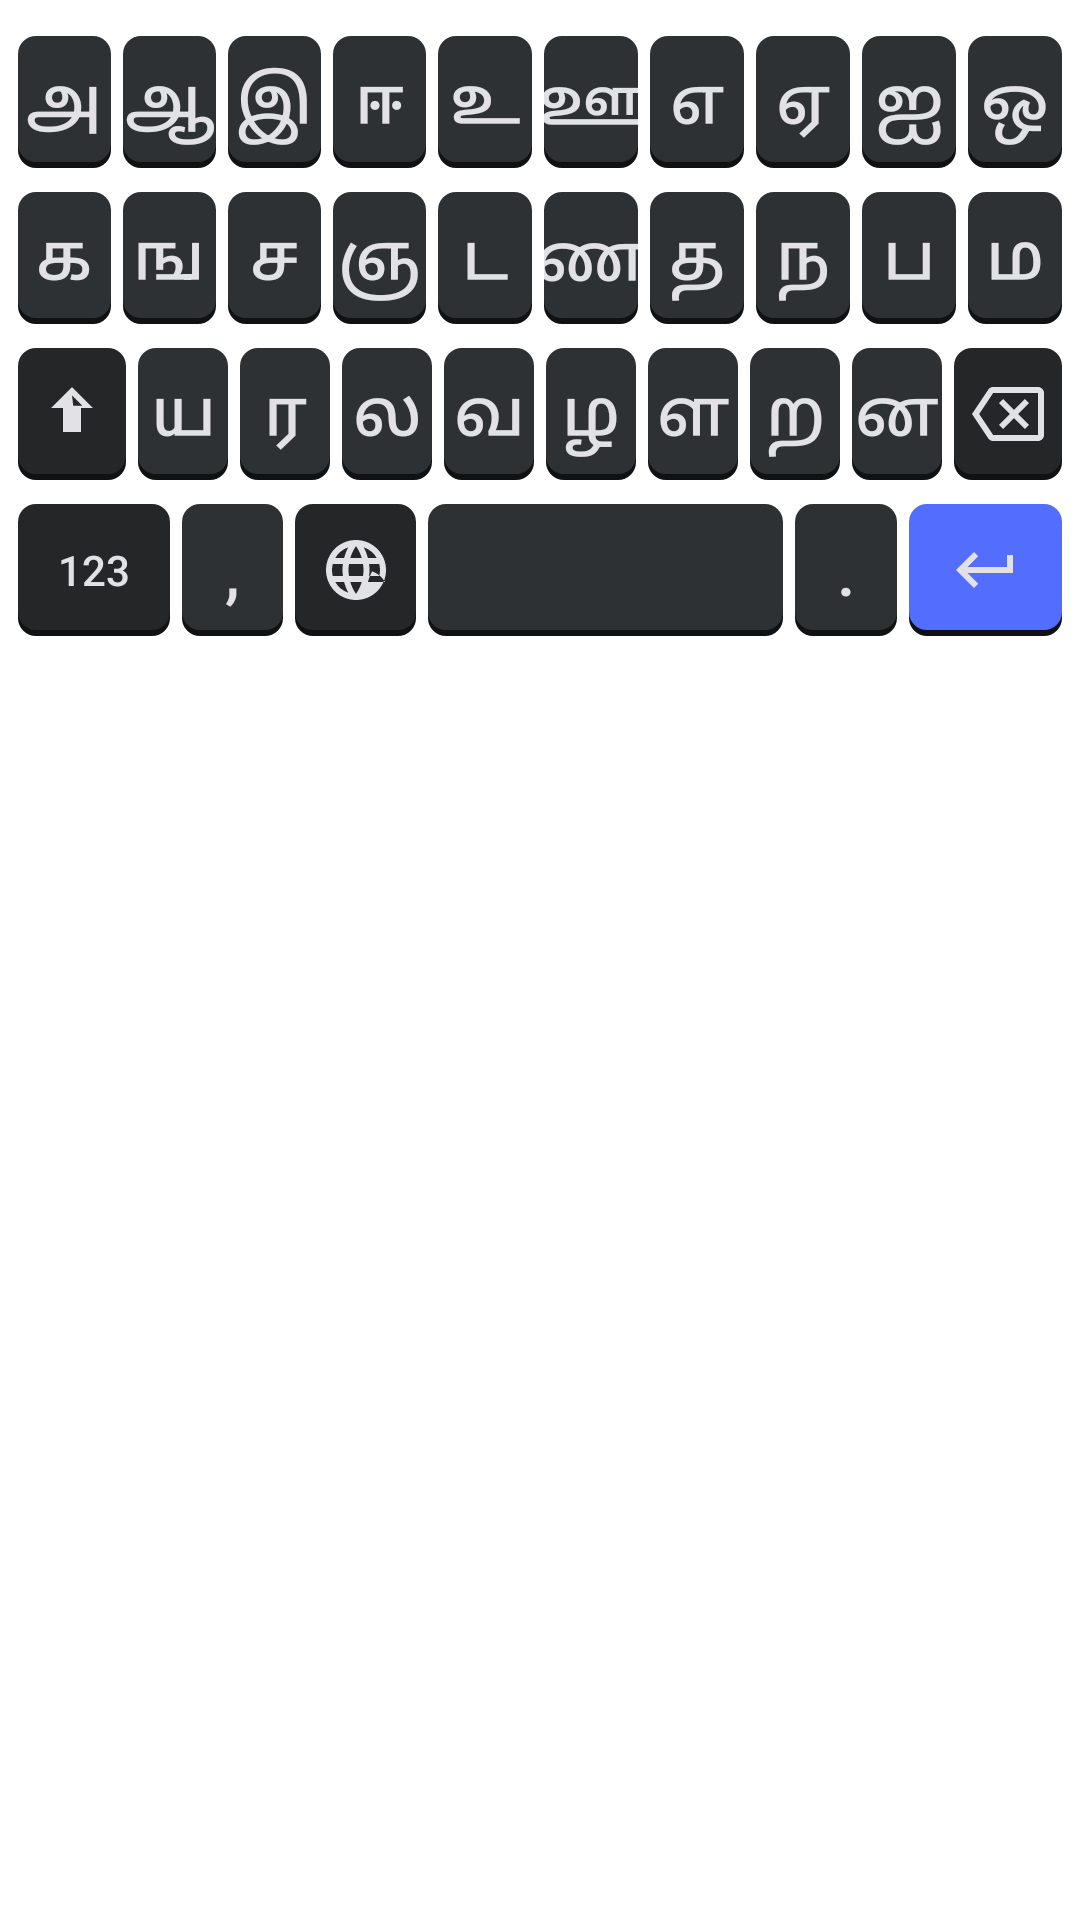

Named icons in this screenshot (1080px×1920px) and their bounding boxes, BBox(x1, y1, x2, y2):
backspace: BBox(954, 348, 1062, 480)
enter: BBox(909, 504, 1062, 636)
globe: BBox(295, 504, 416, 636)
shift: BBox(18, 348, 126, 480)
